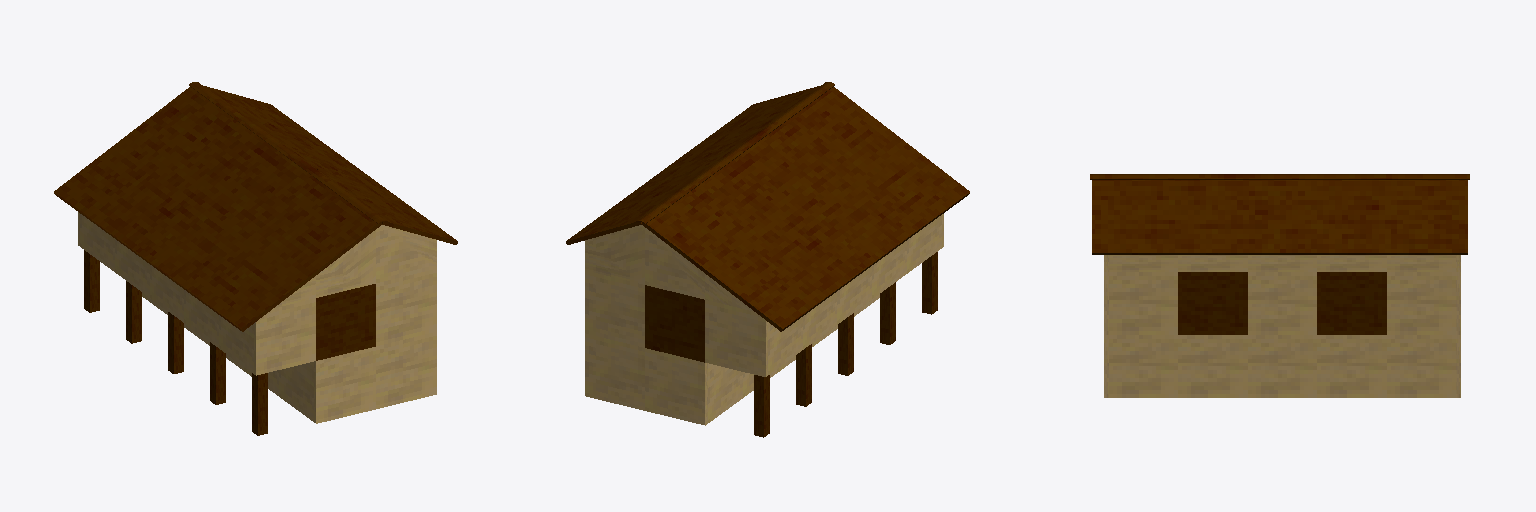
The picture shows the model from 3 angles: view 1: azimuth 30°, elevation 25°; view 2: azimuth 150°, elevation 25°; view 3: azimuth 270°, elevation 25°; orthographic projection.
Parts seen in each view (by area): view 1: Cube.001, Cube.002, stone_column_1.001, cobblestone_wall_1.002, cobblestone_wall_1.019, cobblestone_wall_1.003, cobblestone_wall_1.017, cobblestone_wall_1.018, cobblestone_wall_1.035, cobblestone_wall_1.034, Plane.001, cobblestone_wall_1.009 (+5 smaller); view 2: Cube.001, Cube.002, stone_column_1.001, cobblestone_wall_1.015, cobblestone_wall_1.030, cobblestone_wall_1.016, cobblestone_wall_1.032, cobblestone_wall_1.031, cobblestone_wall_1.038, cobblestone_wall_1.036, Plane.001, cobblestone_wall_1.013 (+6 smaller); view 3: Cube.002, cobblestone_wall_1.005, cobblestone_wall_1.007, cobblestone_wall_1.021, cobblestone_wall_1.023, cobblestone_wall_1.004, cobblestone_wall_1.006, cobblestone_wall_1.008, cobblestone_wall_1.020, cobblestone_wall_1.022, cobblestone_wall_1.024, Plane.001 (+5 smaller).
Part boxes in pixels (left/top/right/bottom): Cube.001: left=54, top=87, right=381, bottom=331; Cube.002: left=204, top=86, right=457, bottom=244; stone_column_1.001: left=84, top=250, right=267, bottom=435; cobblestone_wall_1.002: left=314, top=347, right=375, bottom=423; cobblestone_wall_1.019: left=376, top=269, right=436, bottom=345; cobblestone_wall_1.003: left=376, top=332, right=436, bottom=408; cobblestone_wall_1.017: left=254, top=298, right=315, bottom=375; cobblestone_wall_1.018: left=316, top=284, right=375, bottom=360; cobblestone_wall_1.035: left=376, top=225, right=436, bottom=282; cobblestone_wall_1.034: left=316, top=230, right=375, bottom=297; Plane.001: left=189, top=82, right=387, bottom=223; cobblestone_wall_1.009: left=279, top=362, right=313, bottom=421; Cube.001: left=642, top=87, right=969, bottom=331; Cube.002: left=566, top=86, right=819, bottom=244; stone_column_1.001: left=754, top=252, right=937, bottom=437; cobblestone_wall_1.015: left=645, top=348, right=707, bottom=425; cobblestone_wall_1.030: left=705, top=300, right=767, bottom=376; cobblestone_wall_1.016: left=585, top=333, right=644, bottom=410; cobblestone_wall_1.032: left=585, top=270, right=644, bottom=347; cobblestone_wall_1.031: left=645, top=285, right=704, bottom=362; cobblestone_wall_1.038: left=585, top=225, right=644, bottom=284; cobblestone_wall_1.036: left=645, top=228, right=704, bottom=299; Plane.001: left=636, top=82, right=834, bottom=223; cobblestone_wall_1.013: left=708, top=363, right=742, bottom=422; Cube.002: left=1092, top=180, right=1467, bottom=254; cobblestone_wall_1.005: left=1178, top=335, right=1247, bottom=397; cobblestone_wall_1.007: left=1317, top=335, right=1386, bottom=397; cobblestone_wall_1.021: left=1178, top=272, right=1247, bottom=334; cobblestone_wall_1.023: left=1317, top=272, right=1386, bottom=334; cobblestone_wall_1.004: left=1109, top=335, right=1177, bottom=397; cobblestone_wall_1.006: left=1248, top=335, right=1316, bottom=397; cobblestone_wall_1.008: left=1387, top=335, right=1455, bottom=397; cobblestone_wall_1.020: left=1109, top=272, right=1177, bottom=334; cobblestone_wall_1.022: left=1248, top=272, right=1316, bottom=334; cobblestone_wall_1.024: left=1387, top=272, right=1455, bottom=334; Plane.001: left=1090, top=174, right=1469, bottom=179.
Bounding box in the file's own units: 10.85 × 9.22 × 16.4.
Materials: 2 (2 with a texture image).